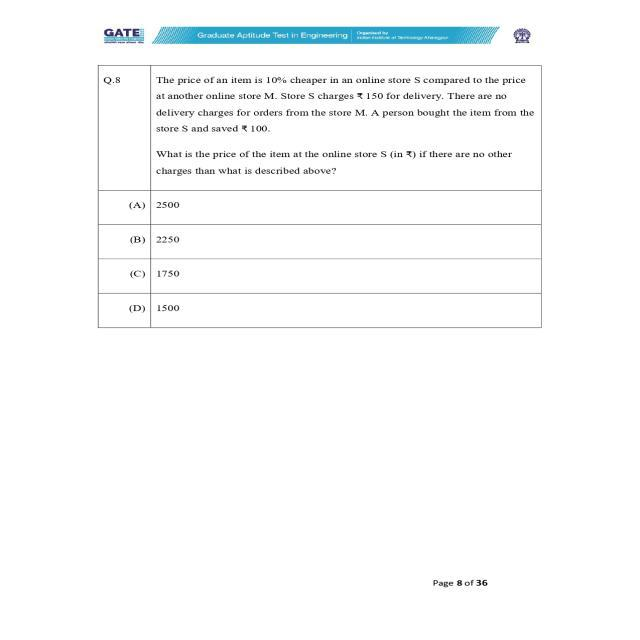Answer_Block: (95, 192, 542, 326)
Question_Answer_Block: (94, 66, 542, 325)
Question_Block: (92, 65, 543, 189)
Question_Paper_Area: (96, 64, 544, 330)
